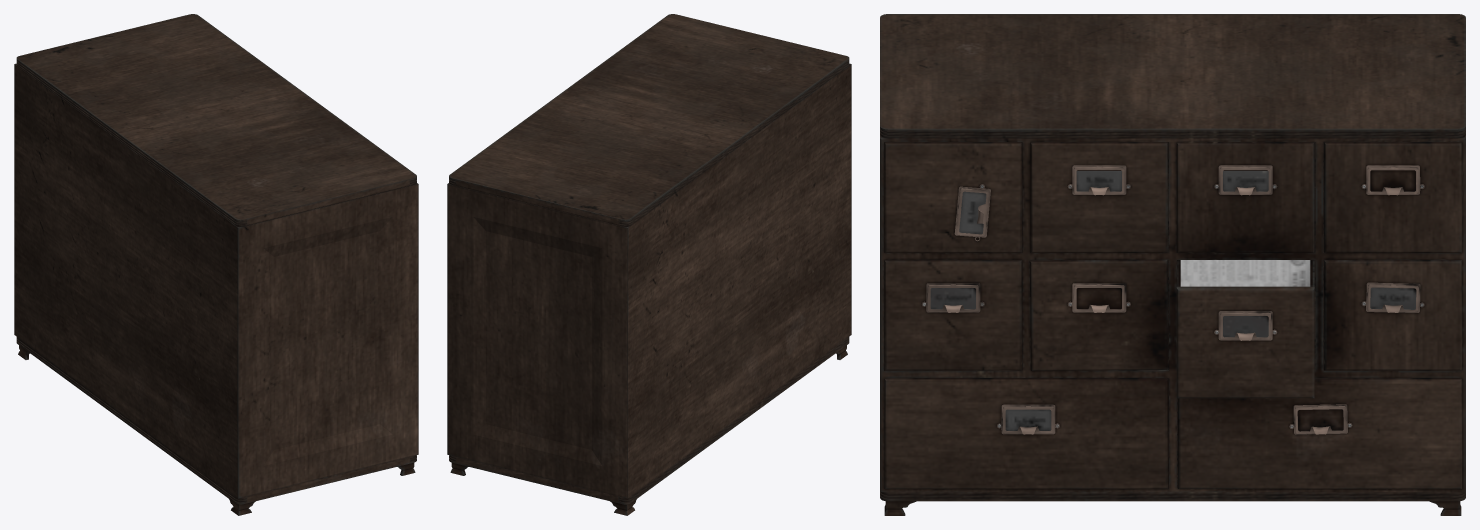
File: wooden_drawer.glb
The picture shows the model from 3 angles, left to right: view 1: azimuth 30°, elevation 25°; view 2: azimuth 150°, elevation 25°; view 3: azimuth 270°, elevation 25°; orthographic projection. The views are drawn at different scales.
Parts seen in each view (by area): view 1: Cube.141, Cube.143, Cube.144, Cube.154; view 2: Cube.141, Cube.143, Cube.144, Cube.154; view 3: Cube.143, Cube.152, Cube.153, Cube.141, Cube.147, Cube.150, Cube.149, Cube.145, Cube.142, Cube.148, Cube.151, Cube.146 (+20 smaller).
Part boxes in pixels (bbox=[...]): Cube.141: bbox=[14, 63, 418, 498]; Cube.143: bbox=[16, 14, 416, 226]; Cube.144: bbox=[16, 337, 416, 504]; Cube.154: bbox=[18, 345, 415, 515]; Cube.141: bbox=[447, 63, 851, 498]; Cube.143: bbox=[449, 14, 849, 226]; Cube.144: bbox=[449, 337, 849, 504]; Cube.154: bbox=[450, 345, 847, 515]; Cube.143: bbox=[880, 14, 1465, 138]; Cube.152: bbox=[884, 378, 1168, 488]; Cube.153: bbox=[1178, 378, 1462, 488]; Cube.141: bbox=[880, 134, 1465, 492]; Cube.147: bbox=[1029, 259, 1168, 370]; Cube.150: bbox=[1324, 142, 1462, 252]; Cube.149: bbox=[1176, 260, 1314, 398]; Cube.145: bbox=[884, 260, 1022, 370]; Cube.142: bbox=[884, 142, 1022, 252]; Cube.148: bbox=[1176, 142, 1314, 252]; Cube.151: bbox=[1324, 260, 1462, 370]; Cube.146: bbox=[1030, 142, 1168, 252].
Size of the model in its own units: 1.82 by 2.19 by 3.
Materials: 1 (1 with a texture image).
